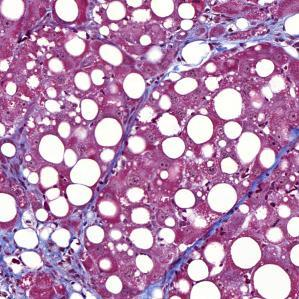fibrosis: (13, 208, 102, 286)
